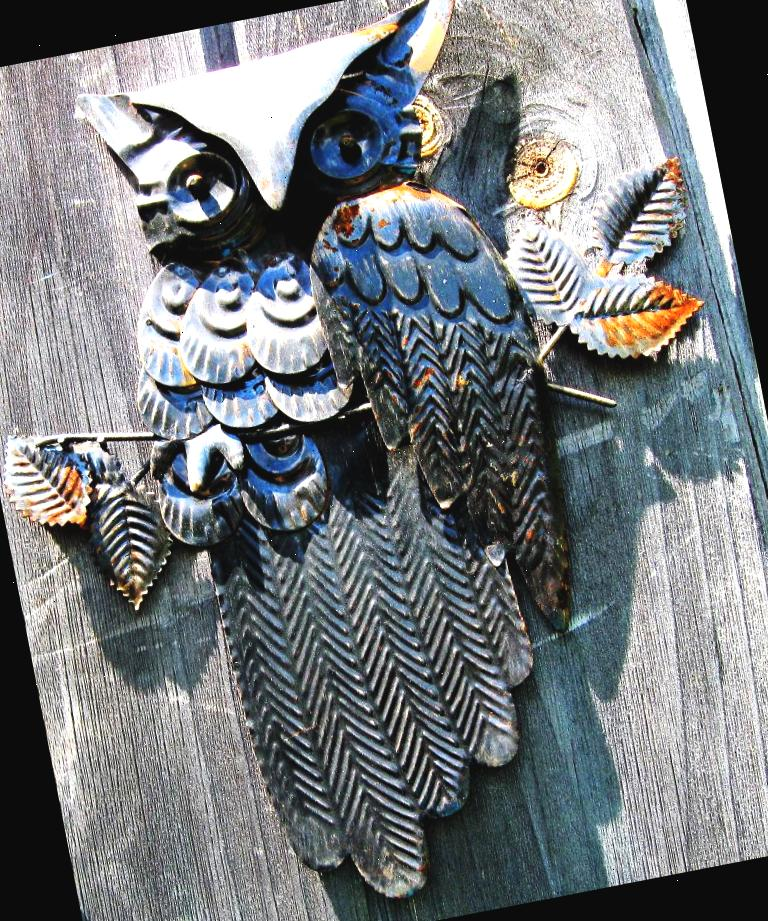Owl: (63, 0, 640, 921)
